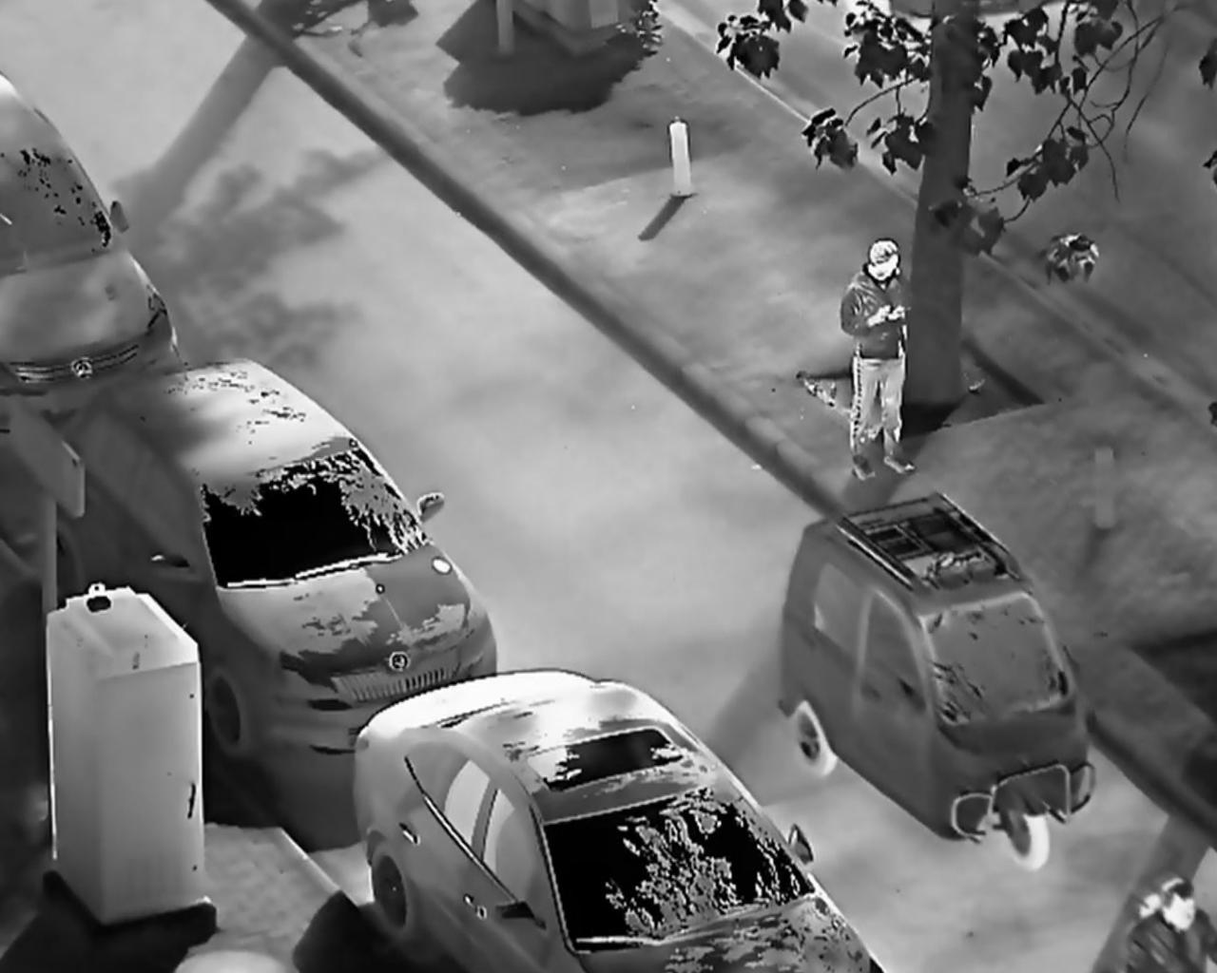person: (833, 237, 932, 482)
